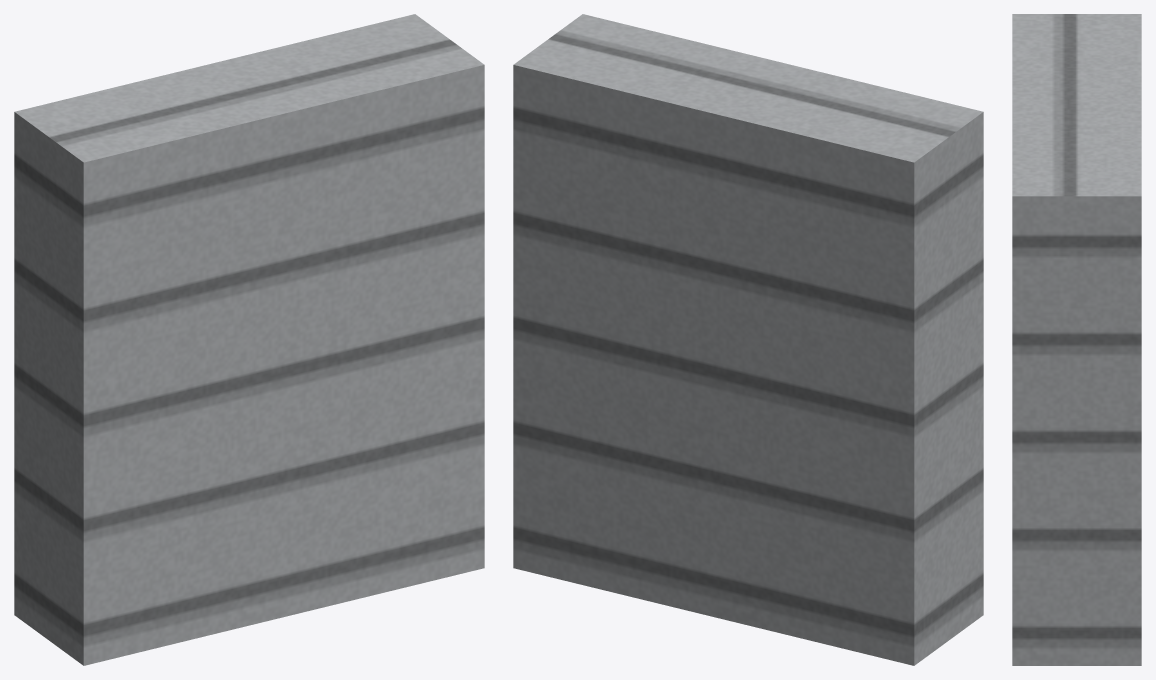
File: medicine_cabinet.glb
The picture shows the model from 3 angles, left to right: view 1: azimuth 30°, elevation 25°; view 2: azimuth 150°, elevation 25°; view 3: azimuth 270°, elevation 25°; orthographic projection. The views are drawn at different scales.
Visible parts, largest first — view 1: medicine_cabinet-col; view 2: medicine_cabinet-col; view 3: medicine_cabinet-col.
Boxes of the visible parts, <box> form: medicine_cabinet-col: <box>14,14,484,665</box>; medicine_cabinet-col: <box>513,14,983,665</box>; medicine_cabinet-col: <box>1012,14,1141,665</box>.
Bounding box in the file's own units: 0.5 × 0.6 × 0.15.
1 material, 1 textured.
